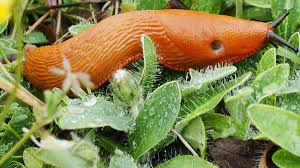slug: (29, 11, 294, 94)
